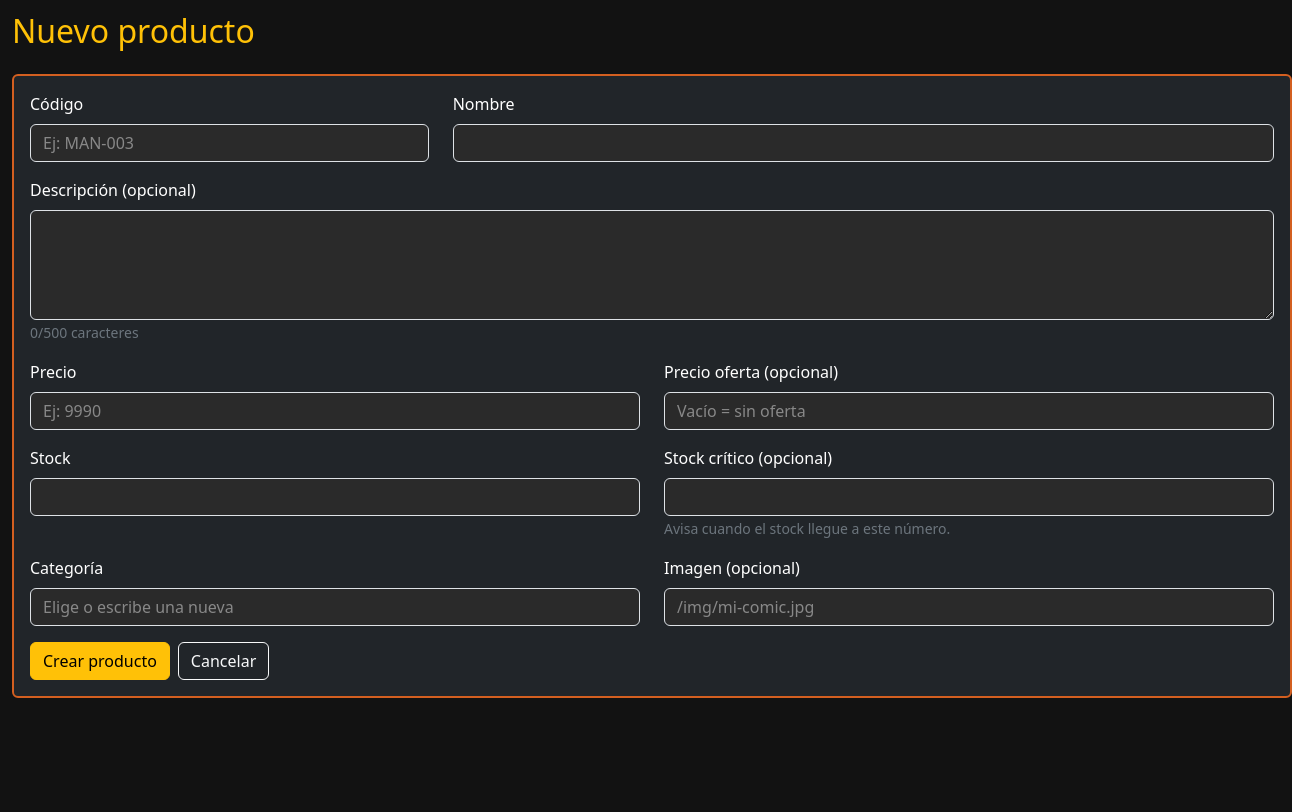
Scenario: FormularioProducto › debería avisar en tiempo real si la oferta no es menor al precio
The image size is (1292, 812).
Type "5000" into the number field labelled "Precio" at (335, 411), box [30,392,640,430]
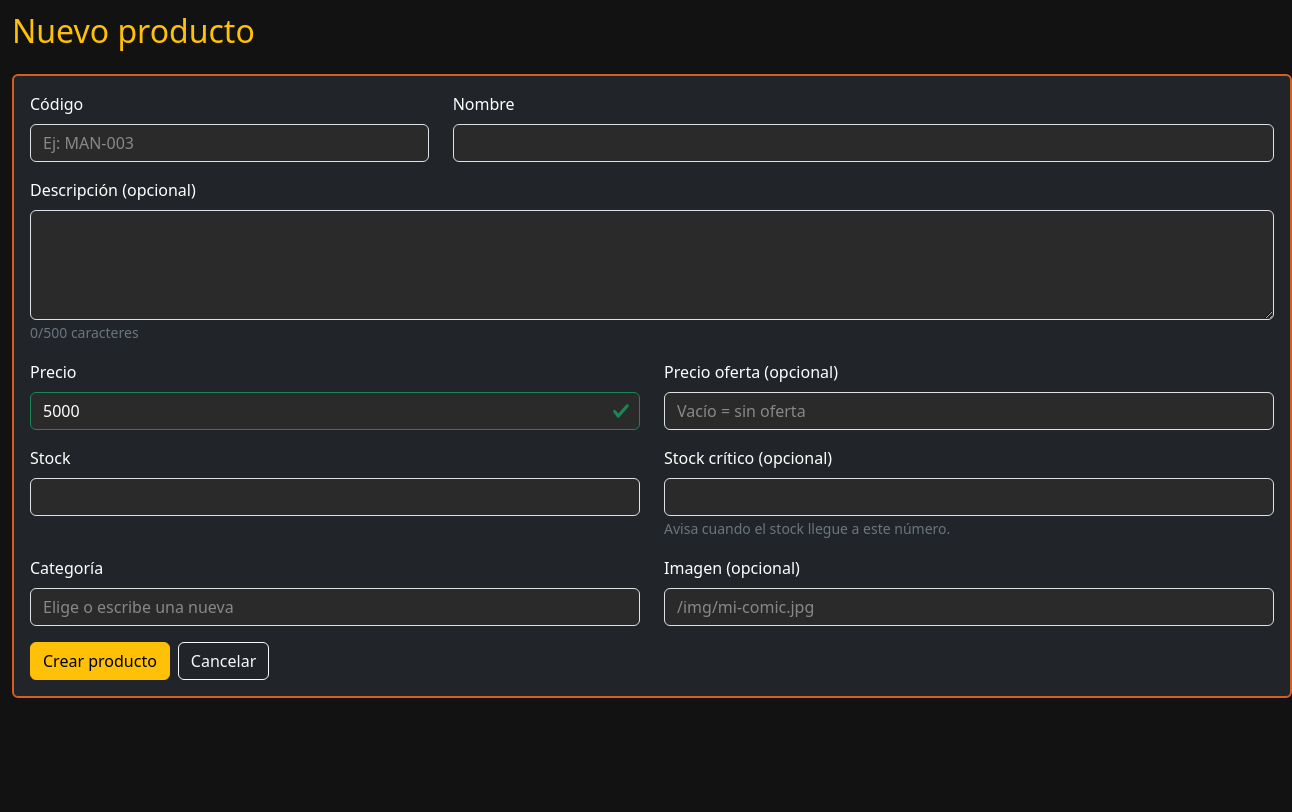
Type "6000" into the number field labelled "Precio oferta (opcional)" at (969, 411), box [664,392,1274,430]
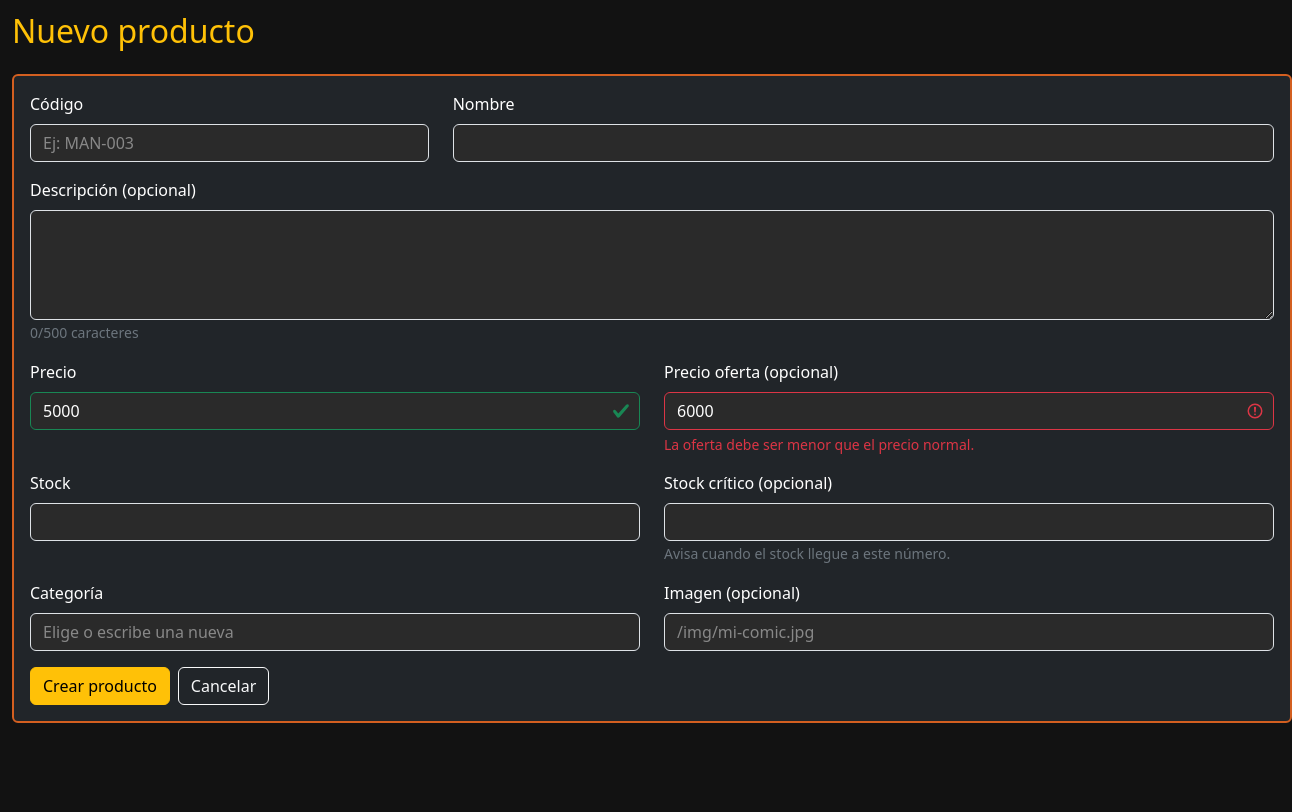
Result: the text "La oferta debe ser menor que el precio normal." is shown at [664,435,974,454]
